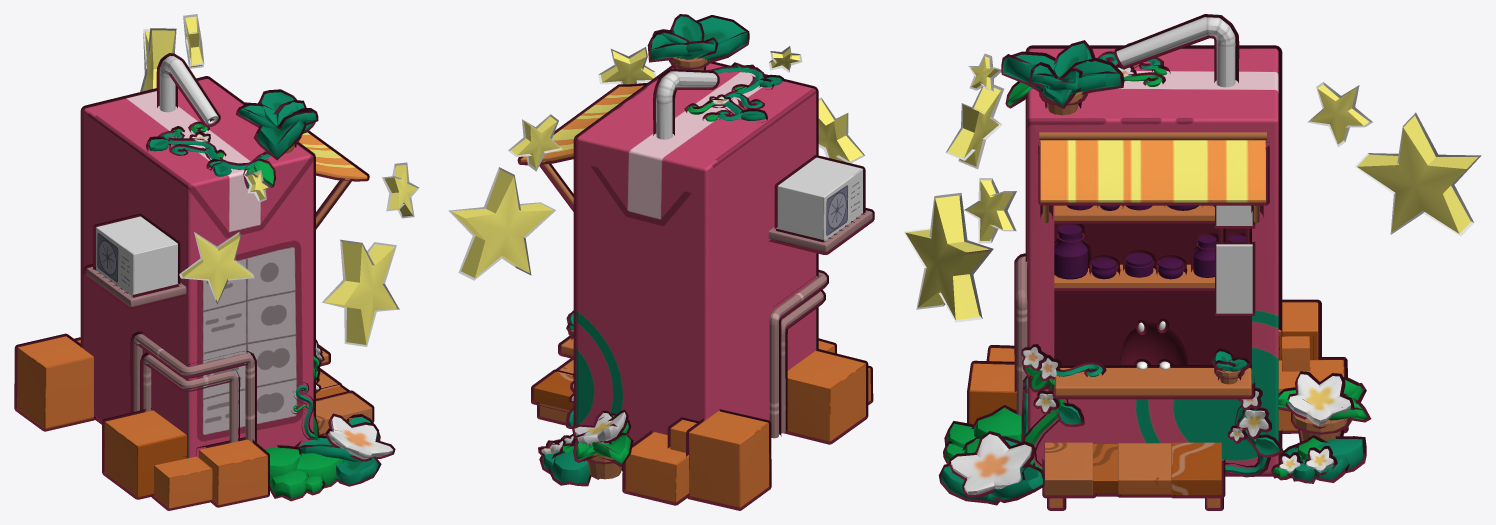
The model's file is juice_shop.glb.
3 views of the same model, side by side, from view 1: azimuth 30°, elevation 25°; view 2: azimuth 150°, elevation 25°; view 3: azimuth 270°, elevation 25° (orthographic). The views are drawn at different scales.
Visible parts, largest first — view 1: A_Zumo, polySurface206, R_Caixa3, L_Vent, R_Caixa, pCylinder14, R_Caixa1, polySurface204, pCylinder10, R_Caixa2, pCylinder15, object 19 (+17 smaller); view 2: A_Zumo, polySurface206, R_Caixa3, R_Caixa, L_Vent, pCylinder5, R_Caixa4, polySurface204, pCylinder10, object 19, H_Toldo, pCylinder15 (+14 smaller); view 3: A_Zumo, polySurface206, H_Toldo, pCylinder5, pCylinder14, B_Estanteria, polySurface204, object 19, pCube6, S_MAdera4, S_MAdera3, S_MAdera1 (+24 smaller).
Boxes of the visible parts, box(x1,y1,x2,y2) form: A_Zumo: box(83, 79, 313, 458); polySurface206: box(14, 53, 395, 510); R_Caixa3: box(17, 336, 93, 429); L_Vent: box(96, 216, 177, 296); R_Caixa: box(104, 410, 186, 497); pCylinder14: box(324, 242, 397, 344); R_Caixa1: box(199, 439, 267, 505); polySurface204: box(140, 14, 419, 346); pCylinder10: box(133, 334, 254, 442); R_Caixa2: box(154, 456, 212, 508); pCylinder15: box(181, 234, 252, 301); object 19: box(159, 56, 218, 124); A_Zumo: box(576, 63, 816, 443); polySurface206: box(517, 14, 874, 510); R_Caixa3: box(689, 411, 769, 507); R_Caixa: box(785, 350, 865, 441); L_Vent: box(777, 157, 862, 241); pCylinder5: box(451, 169, 553, 277); R_Caixa4: box(625, 432, 689, 502); polySurface204: box(448, 46, 865, 280); pCylinder10: box(769, 272, 826, 438); object 19: box(656, 71, 717, 139); H_Toldo: box(520, 85, 643, 162); pCylinder15: box(818, 100, 862, 161); A_Zumo: box(1027, 48, 1278, 473); polySurface206: box(938, 14, 1371, 510); H_Toldo: box(1040, 140, 1265, 202); pCylinder5: box(1357, 116, 1477, 233); pCylinder14: box(905, 195, 990, 319); B_Estanteria: box(1054, 368, 1251, 396); polySurface204: box(903, 53, 1481, 322); object 19: box(1116, 17, 1235, 87); pCube6: box(951, 434, 1031, 494); S_MAdera4: box(1118, 443, 1171, 494); S_MAdera3: box(1171, 442, 1221, 495); S_MAdera1: box(1044, 442, 1092, 495).
Size of the model in its own units: 0.0692 by 0.0888 by 0.1054.
Materials: 1 (1 with a texture image).
